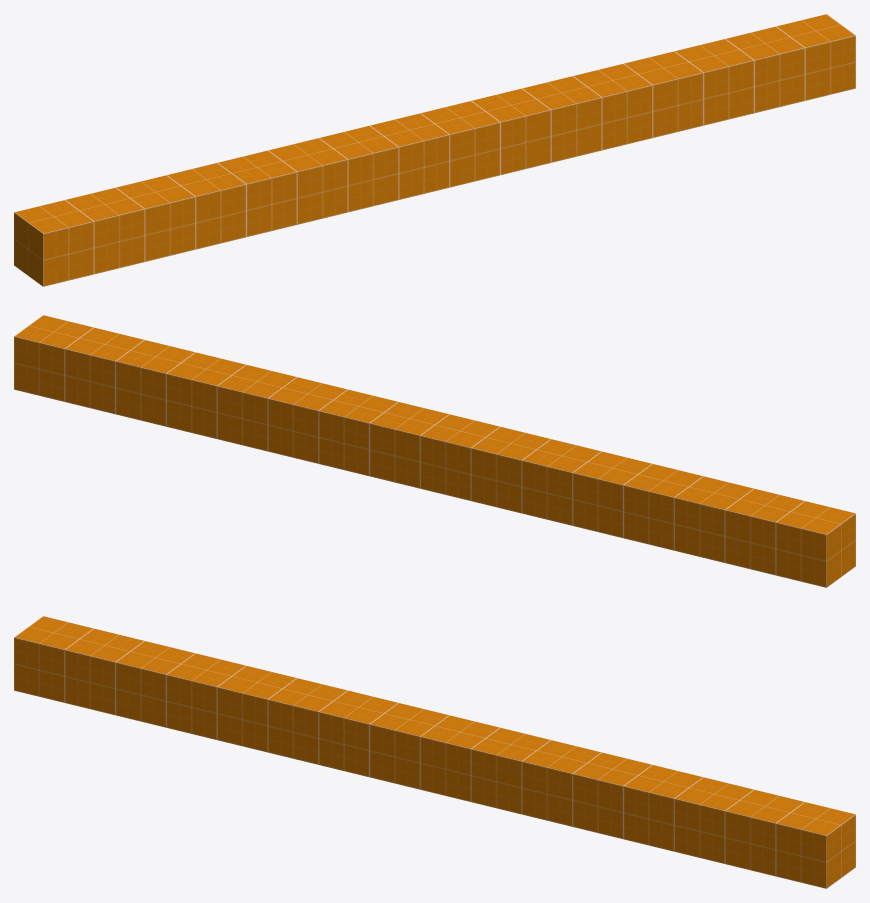
Rendered from Block_16x1x1.obj.
3 views of the same model, one above another, from view 1: azimuth 30°, elevation 25°; view 2: azimuth 150°, elevation 25°; view 3: azimuth 330°, elevation 25° (orthographic).
Parts seen in each view (by area): view 1: Block_16x1x1_Cube.252; view 2: Block_16x1x1_Cube.252; view 3: Block_16x1x1_Cube.252.
Part boxes in pixels (<box>): Block_16x1x1_Cube.252: <box>14,14,855,286</box>; Block_16x1x1_Cube.252: <box>14,315,855,587</box>; Block_16x1x1_Cube.252: <box>14,616,855,888</box>.
Bounding box in the file's own units: 16 × 1 × 1.
1 material, 1 textured.
